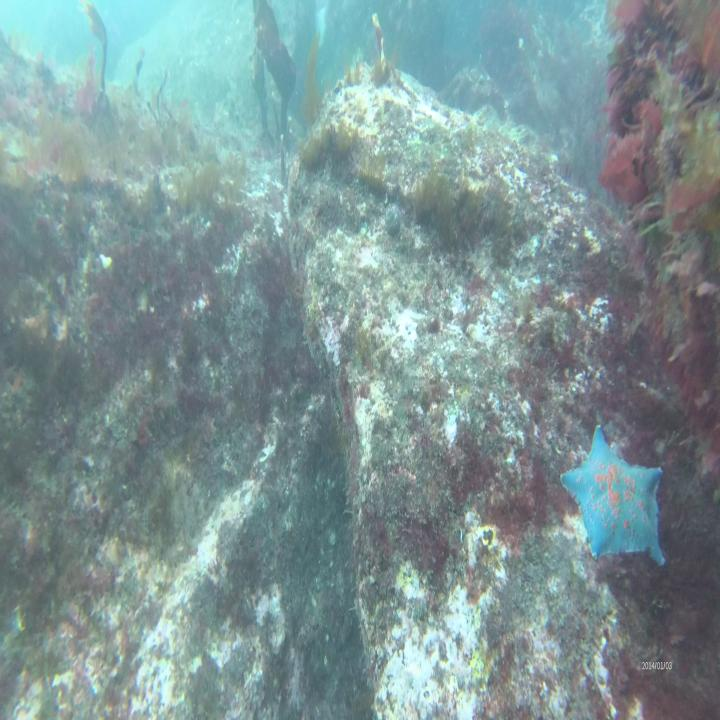starfish: (560, 421, 665, 567)
